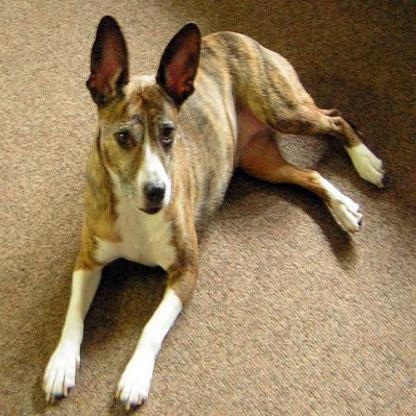basenji: (40, 15, 384, 410)
